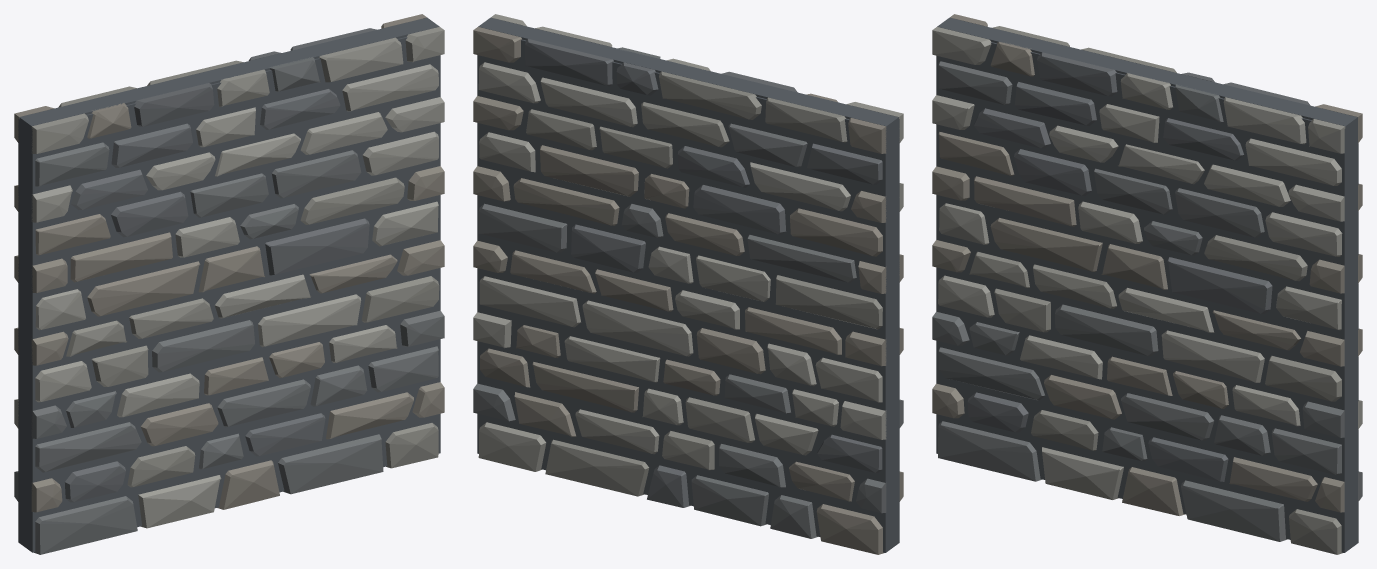
File: SM_LPD_Struct_WallRubble_01.fbx
3 renders of one model, left to right at view 1: azimuth 30°, elevation 25°; view 2: azimuth 150°, elevation 25°; view 3: azimuth 330°, elevation 25°, orthographic.
Parts seen in each view (by area): view 1: SM_LPD_Struct_WallRubble_01; view 2: SM_LPD_Struct_WallRubble_01; view 3: SM_LPD_Struct_WallRubble_01.
Boxes of the visible parts, x1,y1,x2,y2 form: SM_LPD_Struct_WallRubble_01: [14, 14, 444, 554]; SM_LPD_Struct_WallRubble_01: [473, 14, 903, 554]; SM_LPD_Struct_WallRubble_01: [932, 14, 1362, 554].
Size of the model in its own units: 4 by 4 by 0.4.
